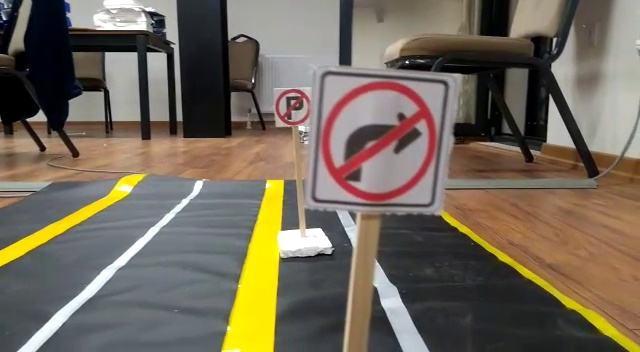park_yapilmaz: (275, 89, 313, 125)
saga_donulmez: (317, 74, 435, 208)
